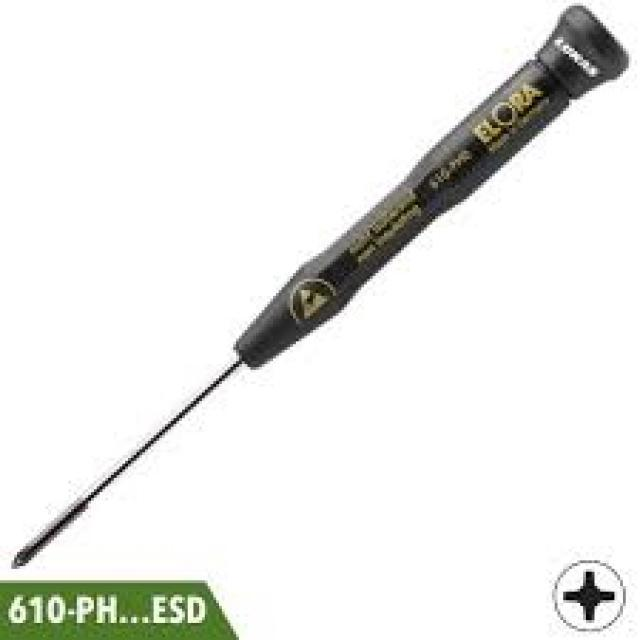screwdriver: (7, 3, 630, 572)
